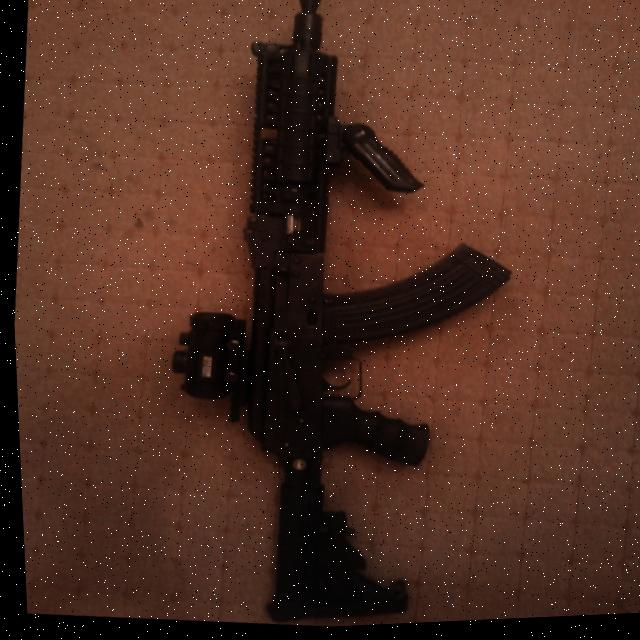firearm: (128, 0, 546, 636)
